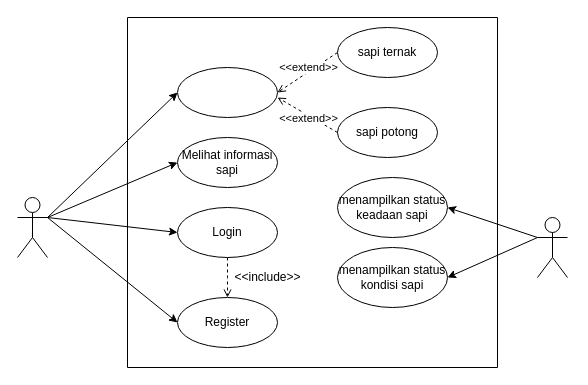
Some shapes in this 588 by 385 pixel diagram are drawn without their labels. Each missing label, with the box of its shape:
Input informasi sapi: (176, 66, 278, 118)
Sistem: (536, 216, 568, 278)
User: (16, 196, 48, 258)
